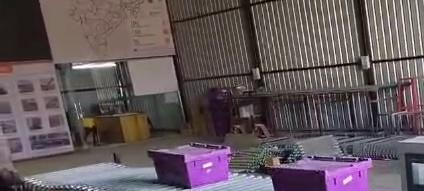box: (148, 143, 230, 187), (269, 156, 371, 190)
